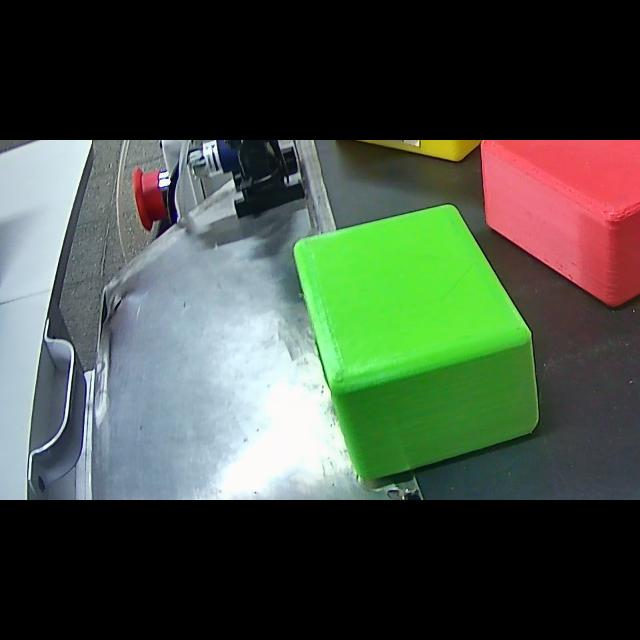greenBox: (286, 198, 548, 490)
redBox: (476, 140, 640, 314)
yellowBox: (321, 140, 524, 168)
